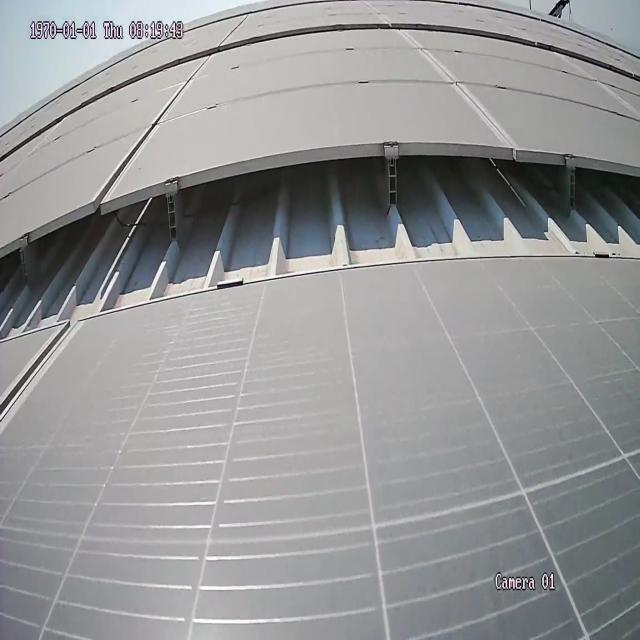interior panel: (98, 61, 215, 193), (399, 29, 516, 140), (1, 337, 75, 430)
outher panel: (1, 143, 639, 340)
